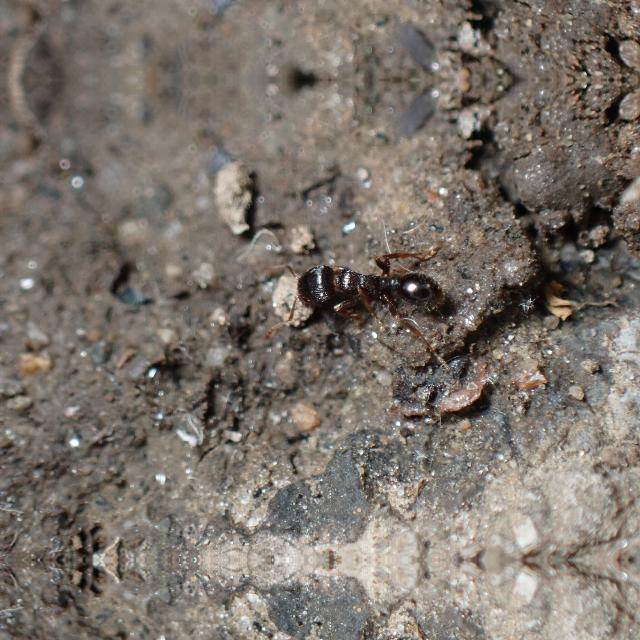Tetramorium: (284, 238, 456, 330)
